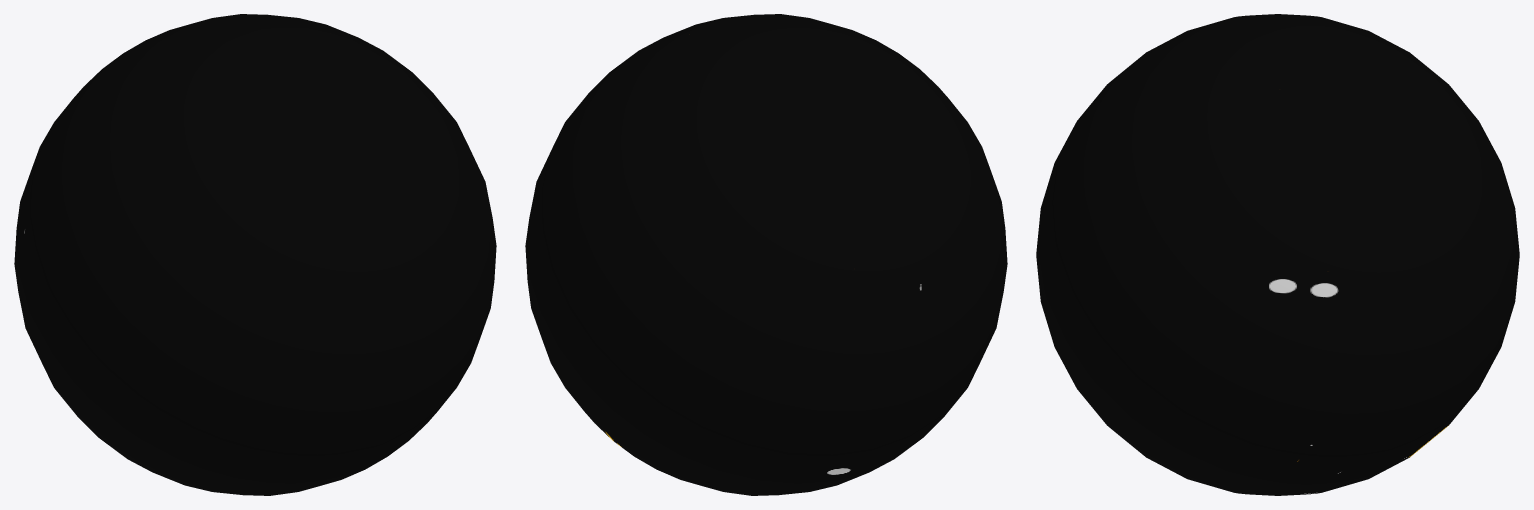
The model's file is skybox.gltf.
3 views of the same model, side by side, from view 1: azimuth 30°, elevation 25°; view 2: azimuth 150°, elevation 25°; view 3: azimuth 270°, elevation 25° (orthographic).
Visible parts, largest first — view 1: Skybox; view 2: Skybox; view 3: Skybox.
Part boxes in pixels (<box>): Skybox: <box>14,14,496,495</box>; Skybox: <box>525,14,1007,495</box>; Skybox: <box>1036,14,1519,495</box>.
Bounding box in the file's own units: 2 × 2 × 2.
